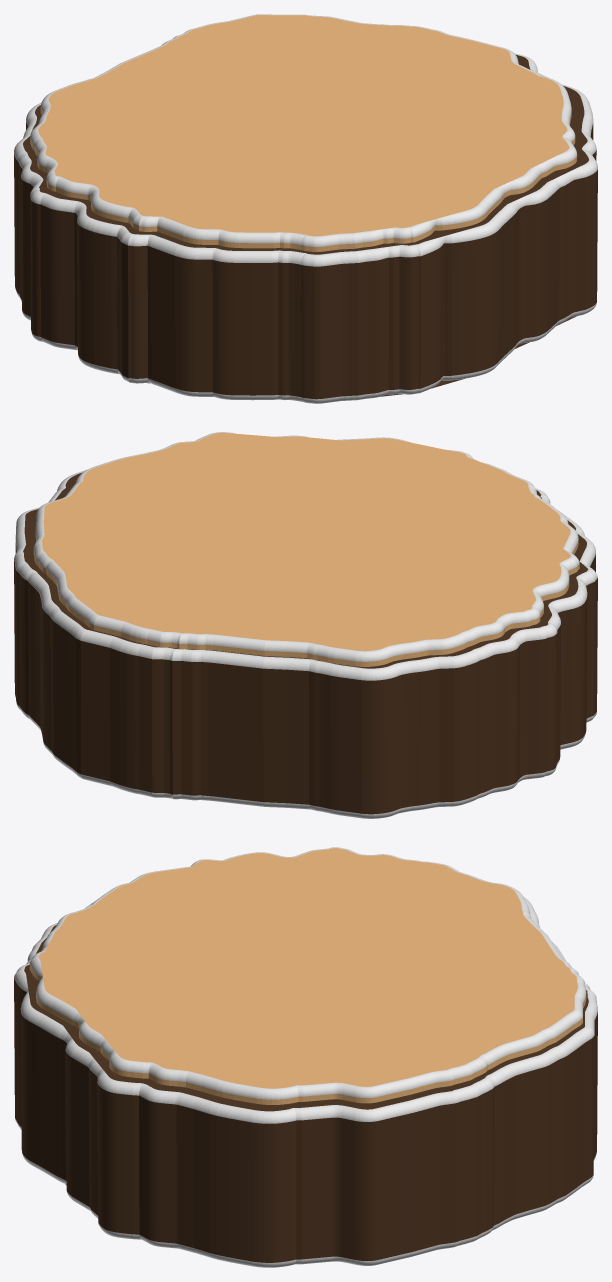
Rendered from wood11.fbx.
3 renders of one model, top to bottom at view 1: azimuth 30°, elevation 25°; view 2: azimuth 150°, elevation 25°; view 3: azimuth 270°, elevation 25°, orthographic. The views are drawn at different scales.
Parts seen in each view (by area): view 1: Шапка_2_2, Выдавливание_NURBS_1, Закругление_2, Закругление_2_2, Шапка_2, Выдавливание_NURBS, Закругление_1; view 2: Шапка_2_2, Выдавливание_NURBS_1, Закругление_2, Закругление_2_2, Выдавливание_NURBS, Шапка_2, Закругление_1; view 3: Шапка_2_2, Выдавливание_NURBS_1, Закругление_2, Закругление_2_2, Шапка_2, Выдавливание_NURBS, Закругление_1.
Part boxes in pixels (left/top/right/bottom): Шапка_2_2: left=38, top=15, right=569, bottom=236; Выдавливание_NURBS_1: left=14, top=122, right=597, bottom=399; Закругление_2: left=14, top=53, right=597, bottom=266; Закругление_2_2: left=30, top=14, right=577, bottom=246; Шапка_2: left=23, top=55, right=588, bottom=254; Выдавливание_NURBS: left=30, top=109, right=577, bottom=251; Закругление_1: left=15, top=287, right=596, bottom=403; Шапка_2_2: left=41, top=432, right=570, bottom=651; Выдавливание_NURBS_1: left=14, top=543, right=597, bottom=814; Закругление_2: left=14, top=469, right=597, bottom=680; Закругление_2_2: left=33, top=432, right=579, bottom=661; Выдавливание_NURBS: left=33, top=534, right=579, bottom=666; Шапка_2: left=23, top=472, right=588, bottom=668; Закругление_1: left=15, top=695, right=596, bottom=818; Шапка_2_2: left=38, top=848, right=577, bottom=1088; Выдавливание_NURBS_1: left=14, top=978, right=597, bottom=1262; Закругление_2: left=14, top=897, right=597, bottom=1123; Закругление_2_2: left=29, top=847, right=586, bottom=1099; Шапка_2: left=24, top=925, right=588, bottom=1111; Выдавливание_NURBS: left=29, top=965, right=586, bottom=1104; Закругление_1: left=15, top=1118, right=596, bottom=1267.
Bounding box in the file's own units: 1505 × 444 × 1394.
